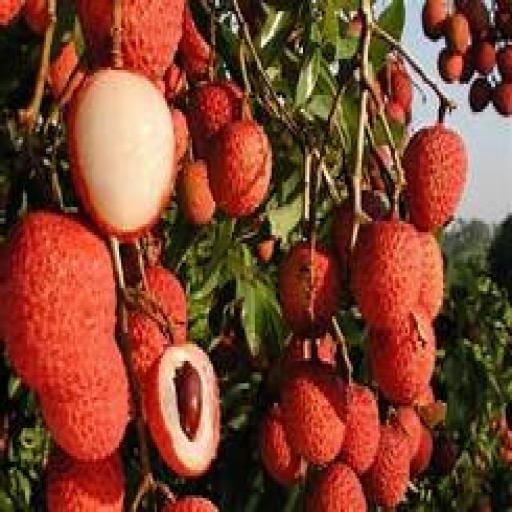lychee: (0, 213, 113, 394), (66, 68, 174, 240), (39, 342, 128, 461), (144, 345, 218, 478), (351, 222, 421, 330), (403, 124, 467, 229), (280, 364, 343, 464), (206, 121, 270, 218), (367, 311, 433, 402), (277, 241, 339, 335), (119, 0, 182, 78), (45, 451, 124, 511), (188, 82, 249, 159), (259, 406, 306, 486), (363, 426, 408, 506), (340, 384, 379, 475), (146, 266, 187, 344), (305, 462, 366, 511), (175, 160, 214, 226), (177, 6, 210, 81), (417, 233, 444, 318), (45, 40, 82, 100), (332, 199, 352, 274), (394, 406, 421, 458), (409, 426, 431, 478), (445, 12, 469, 53), (171, 110, 189, 162), (422, 0, 446, 39), (436, 48, 462, 83), (472, 40, 496, 75), (468, 76, 492, 111), (22, 0, 47, 33), (163, 496, 218, 511), (163, 65, 184, 100), (493, 82, 511, 117), (0, 0, 24, 25), (495, 45, 511, 81)
